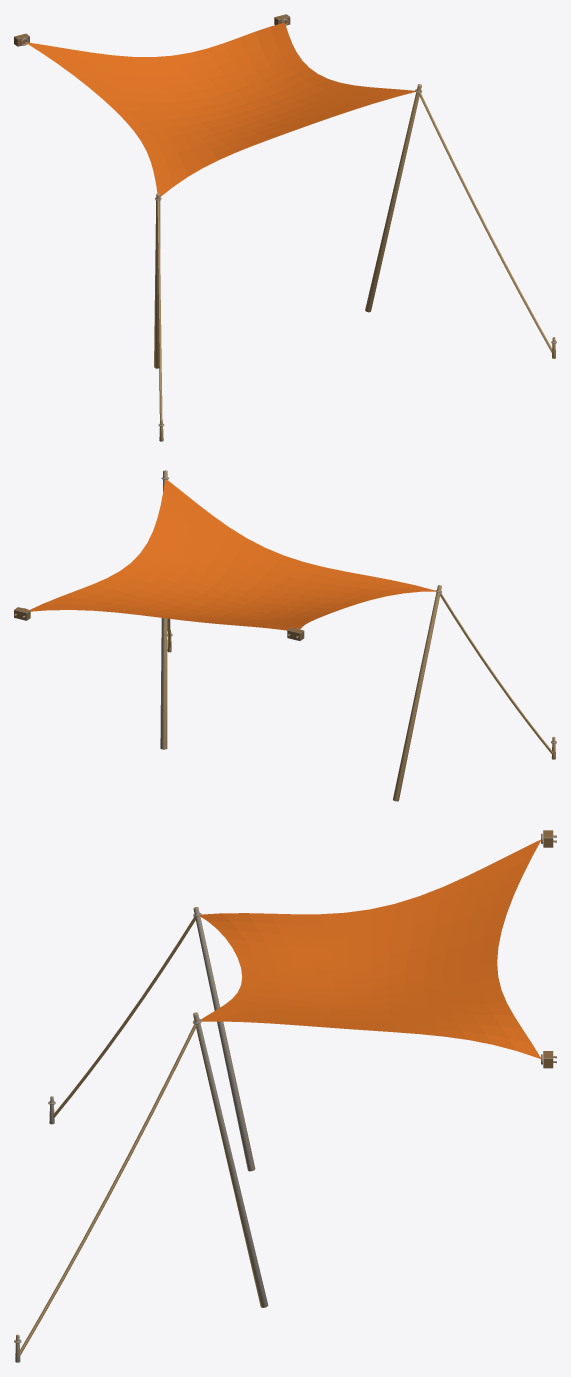
Rendered from nomad_sail_wall_quad.fbx.
3 renders of one model, top to bottom at view 1: azimuth 30°, elevation 25°; view 2: azimuth 150°, elevation 25°; view 3: azimuth 270°, elevation 25°, orthographic. The views are drawn at different scales.
Parts seen in each view (by area): view 1: S09_Canopy, S09_Mast_SailRig_MastPole, S09_Guy, S09_Mast1_SailRig_MastPole, S09_Guy1; view 2: S09_Canopy, S09_Mast1_SailRig_MastPole, S09_Mast_SailRig_MastPole, S09_Guy1; view 3: S09_Canopy, S09_Mast_SailRig_MastPole, S09_Mast1_SailRig_MastPole, S09_Guy, S09_Guy1.
Boxes of the visible parts, bbox=[...] form: S09_Canopy: bbox=[25, 22, 415, 196]; S09_Mast_SailRig_MastPole: bbox=[365, 84, 422, 312]; S09_Guy: bbox=[419, 93, 552, 353]; S09_Mast1_SailRig_MastPole: bbox=[154, 193, 161, 368]; S09_Guy1: bbox=[157, 201, 162, 419]; S09_Canopy: bbox=[30, 479, 435, 630]; S09_Mast1_SailRig_MastPole: bbox=[393, 585, 441, 801]; S09_Mast_SailRig_MastPole: bbox=[160, 470, 169, 749]; S09_Guy1: bbox=[440, 593, 553, 754]; S09_Canopy: bbox=[199, 839, 540, 1058]; S09_Mast_SailRig_MastPole: bbox=[193, 1012, 268, 1307]; S09_Mast1_SailRig_MastPole: bbox=[193, 907, 255, 1171]; S09_Guy: bbox=[20, 1024, 196, 1355]; S09_Guy1: bbox=[53, 916, 195, 1118].
Size of the model in its own units: 546 by 342 by 519.
